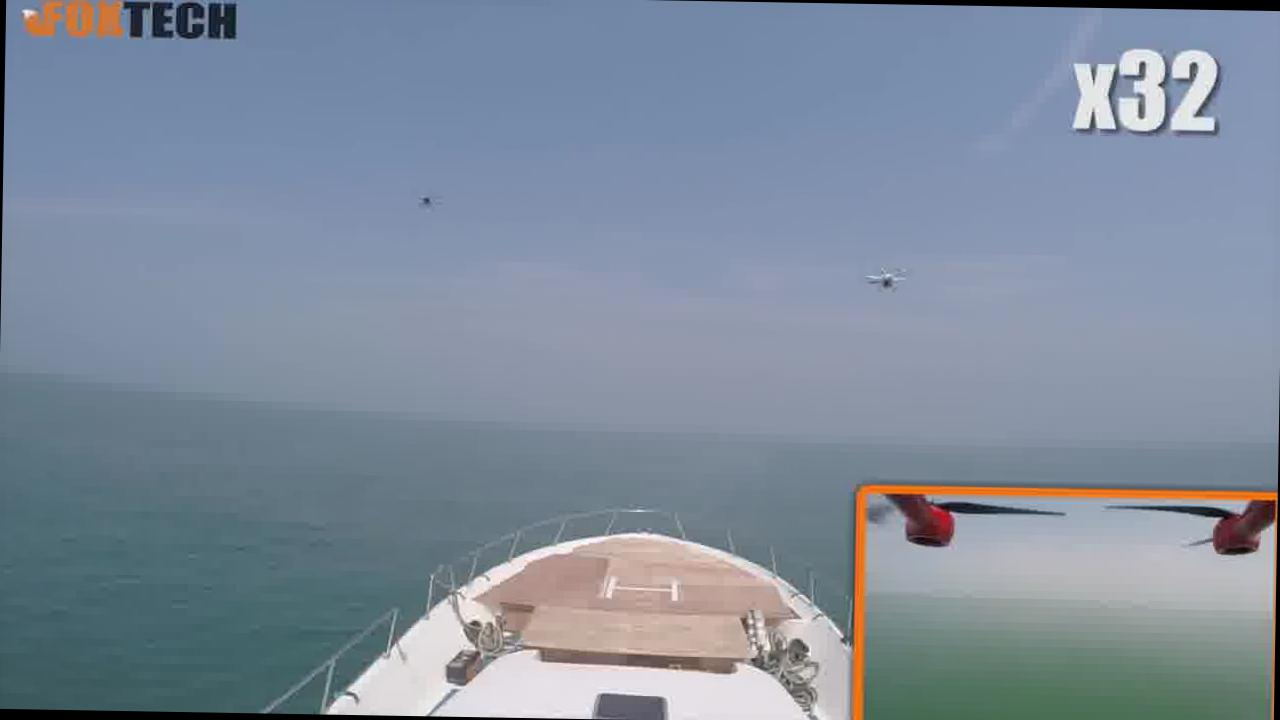drone: (857, 247, 932, 298), (408, 172, 452, 216)
